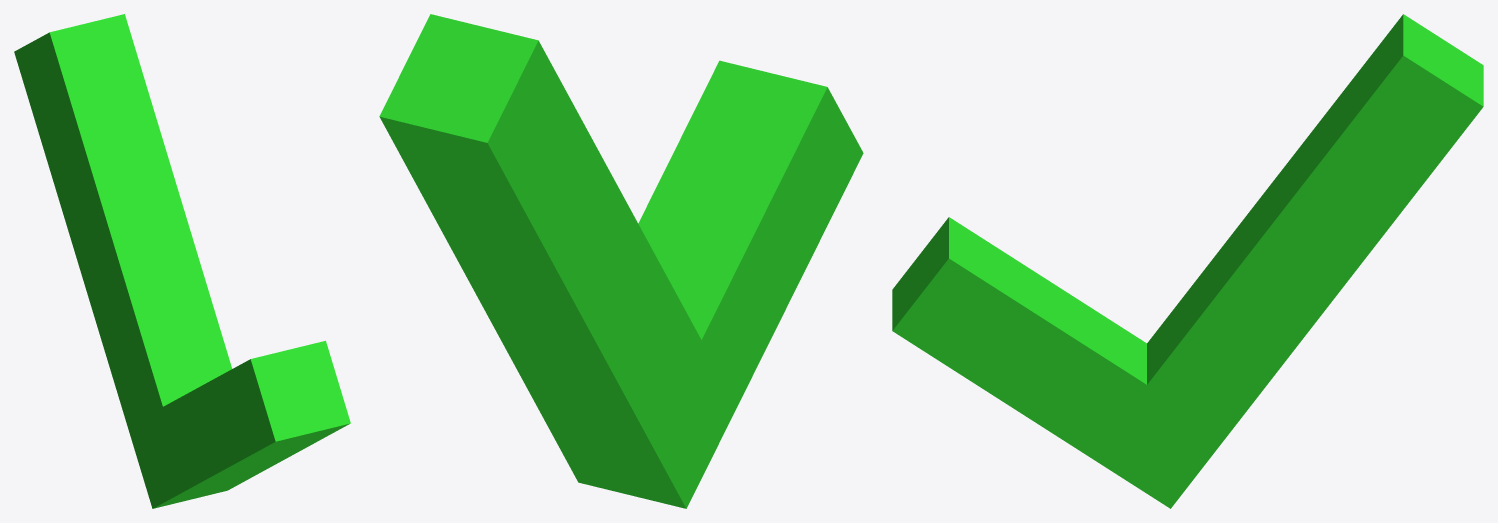
The model's file is Green_check.fbx.
3 renders of one model, left to right at view 1: azimuth 30°, elevation 25°; view 2: azimuth 150°, elevation 25°; view 3: azimuth 270°, elevation 25°, orthographic. The views are drawn at different scales.
Visible parts, largest first — view 1: Cube; view 2: Cube; view 3: Cube.
Part boxes in pixels (<box>): Cube: <box>14,14,350,508</box>; Cube: <box>379,14,863,508</box>; Cube: <box>892,14,1483,508</box>.
Size of the model in its own units: 200 by 1019 by 1204.
